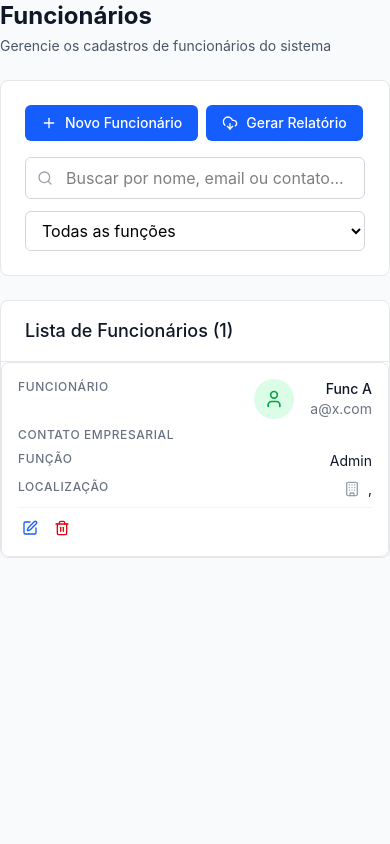
Test: Employees page › opens report modal via button
Step 1. Click the button "Gerar Relatório" → (284, 123), box [206, 105, 363, 141]
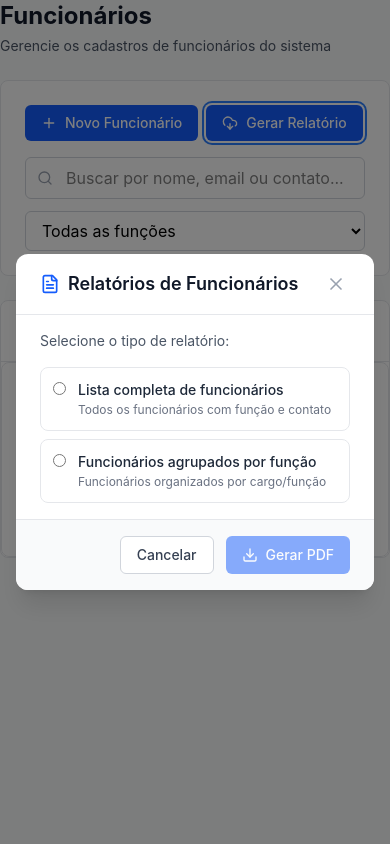
Expected: the heading "Relatórios de Funcionários" is shown, [68, 270, 298, 298]
